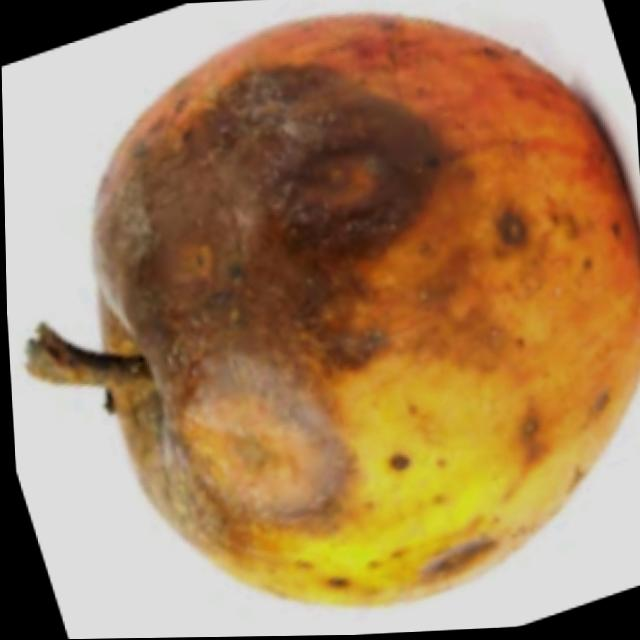organik: (55, 6, 640, 593)
